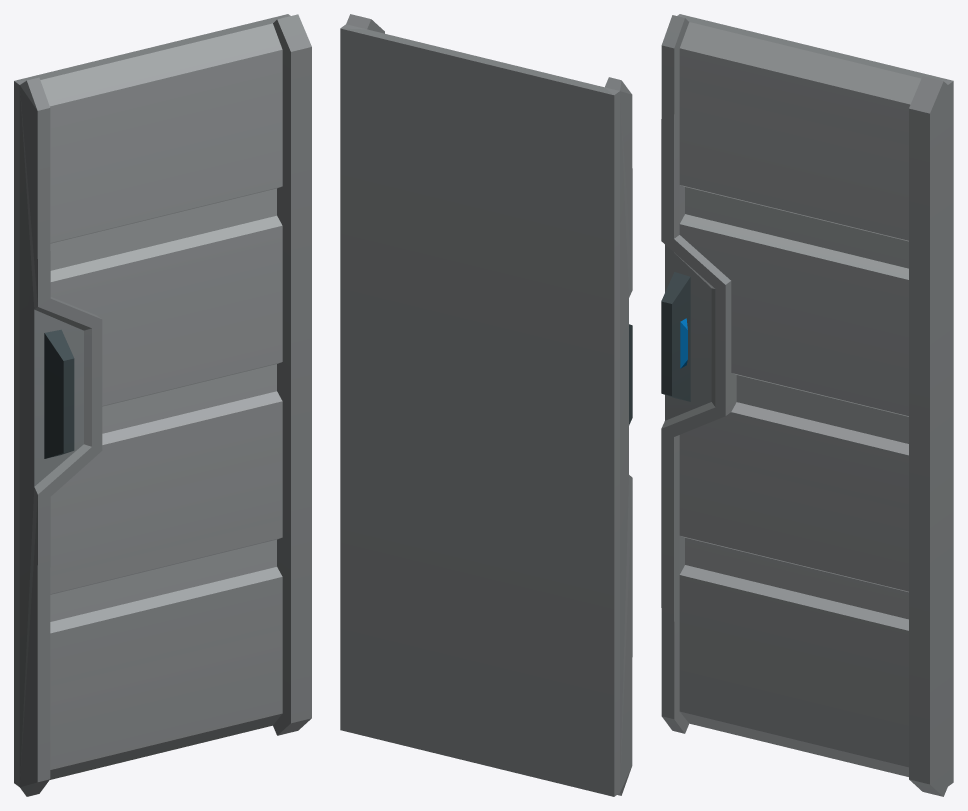
The model's file is Container_type_B_door_012.fbx.
3 views of the same model, side by side, from view 1: azimuth 30°, elevation 25°; view 2: azimuth 150°, elevation 25°; view 3: azimuth 330°, elevation 25° (orthographic).
Parts seen in each view (by area): view 1: Container_type_B_door_012; view 2: Container_type_B_door_012; view 3: Container_type_B_door_012.
Boxes of the visible parts, x1,y1,x2,y2 form: Container_type_B_door_012: (14,14,311,796); Container_type_B_door_012: (340,14,632,796); Container_type_B_door_012: (661,14,953,796).
Size of the model in its own units: 81.72 by 17.59 by 204.
